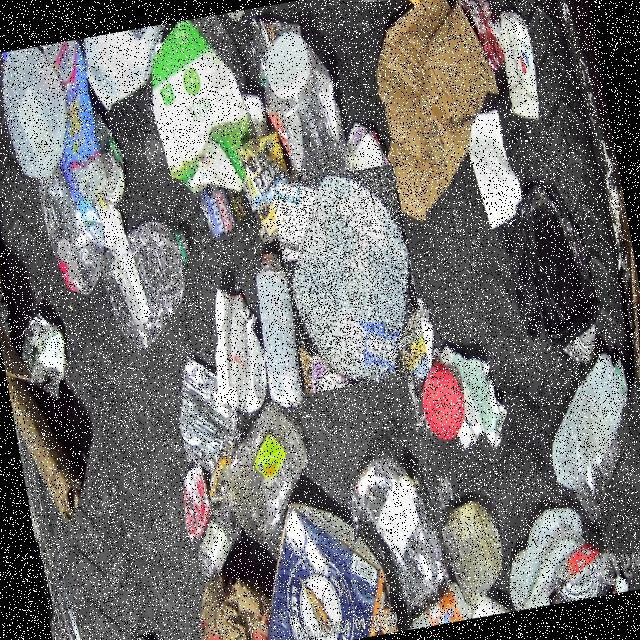milk-jug: (267, 162, 428, 394)
